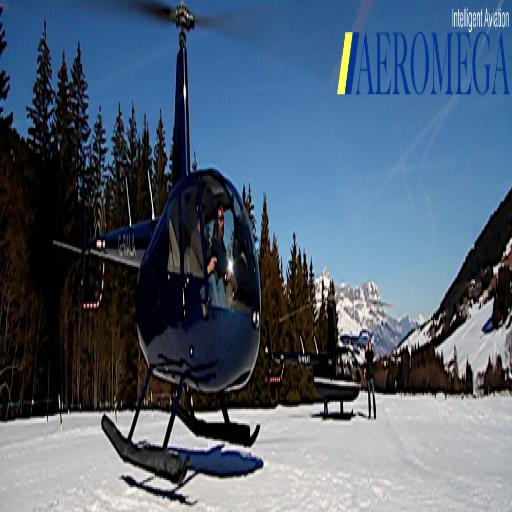helicopter: (60, 5, 278, 483)
